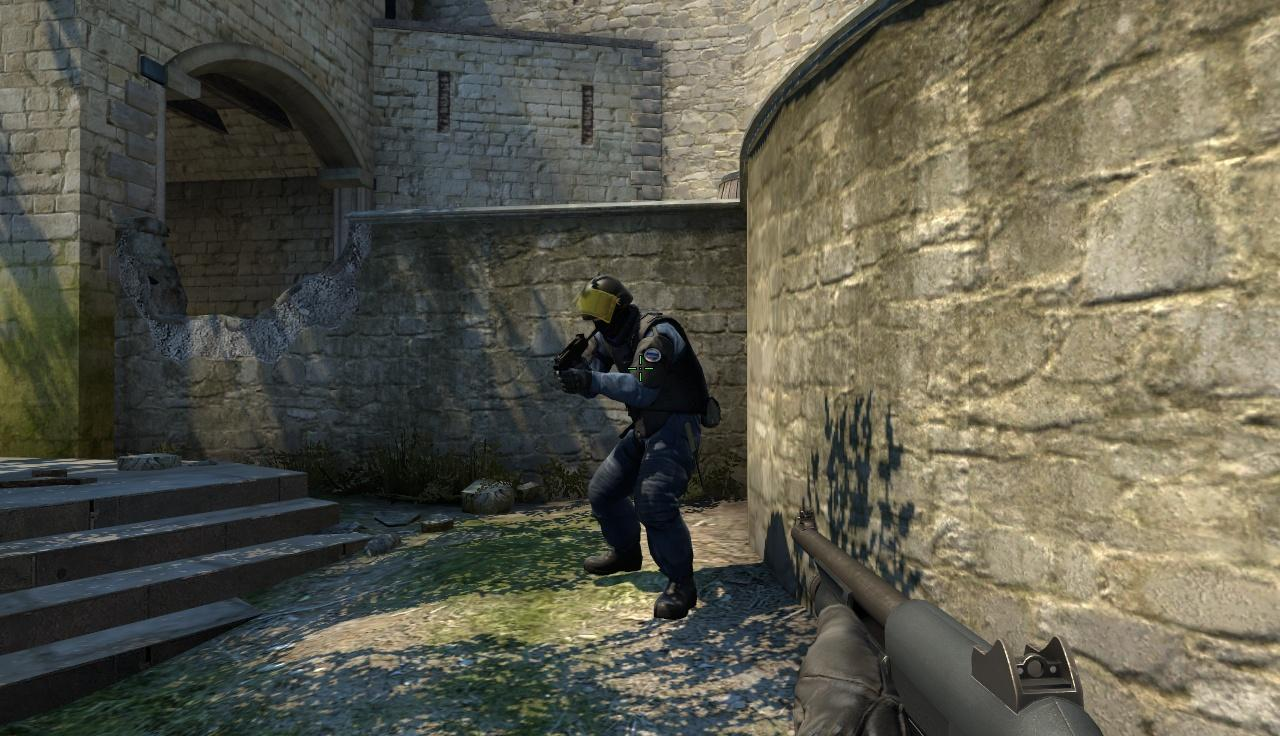ct: (578, 275, 699, 619)
cthead: (579, 276, 632, 331)
shotgun: (790, 509, 1106, 736)
